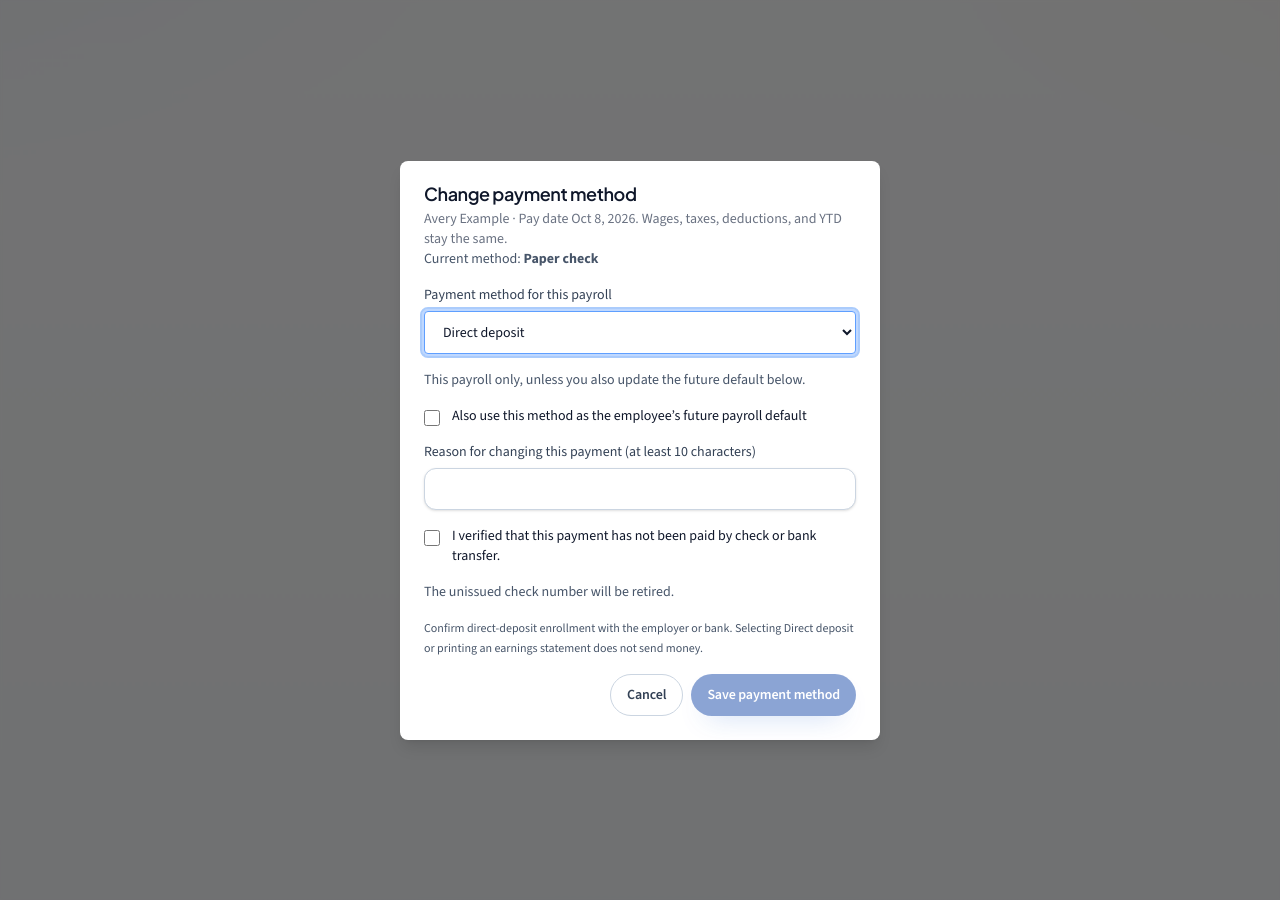
Test: scoped payment method changes › saves the run and future default in one scoped request with original check identity
The image size is (1280, 900).
In the field labelled "Reason for changing this payment (at least 10 characters)": point(640, 488) [424, 468, 856, 510], type "Employer confirmed payment remains unpaid"
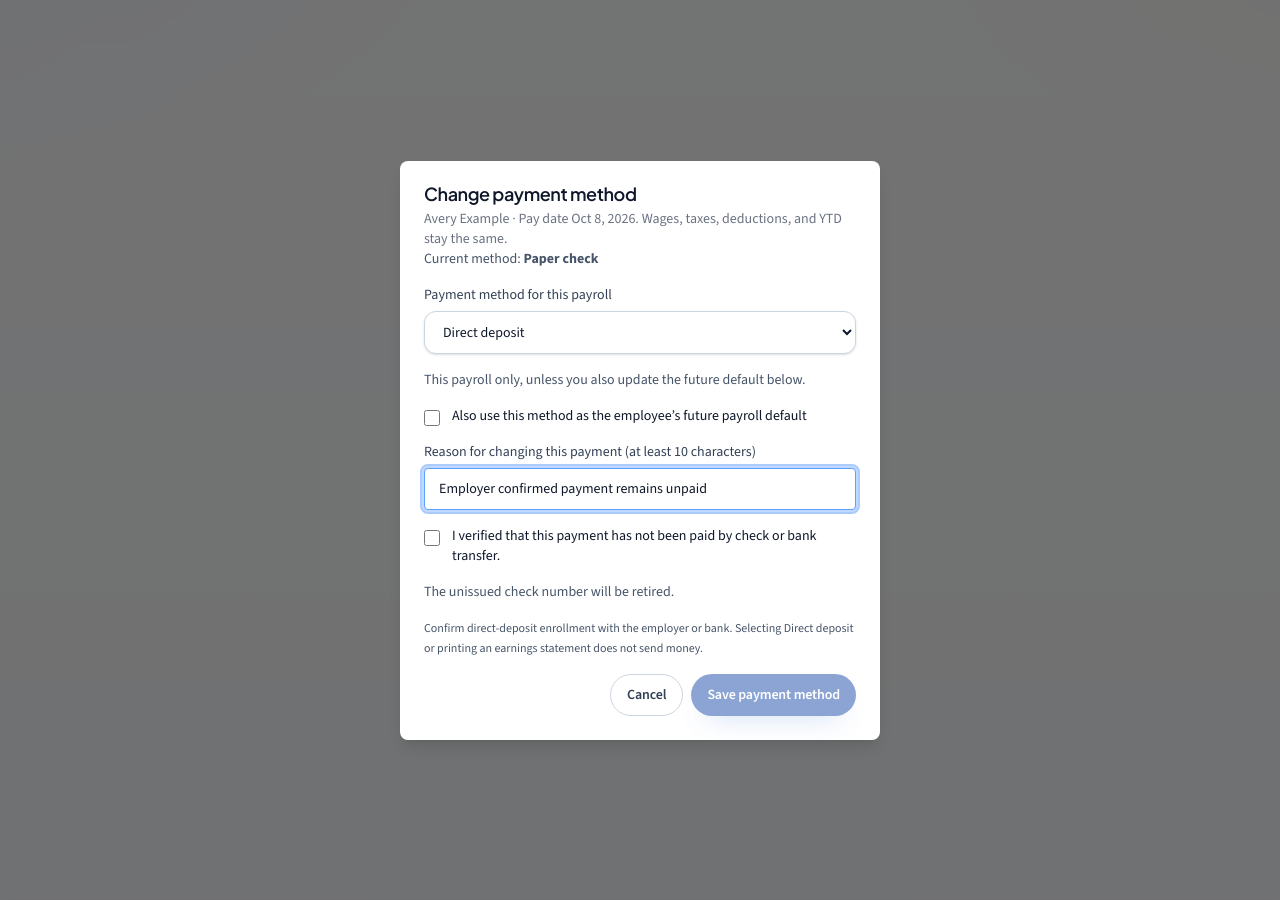
Click the checkbox labelled "I verified that this payment has not been paid": point(432, 538) [424, 530, 440, 546]
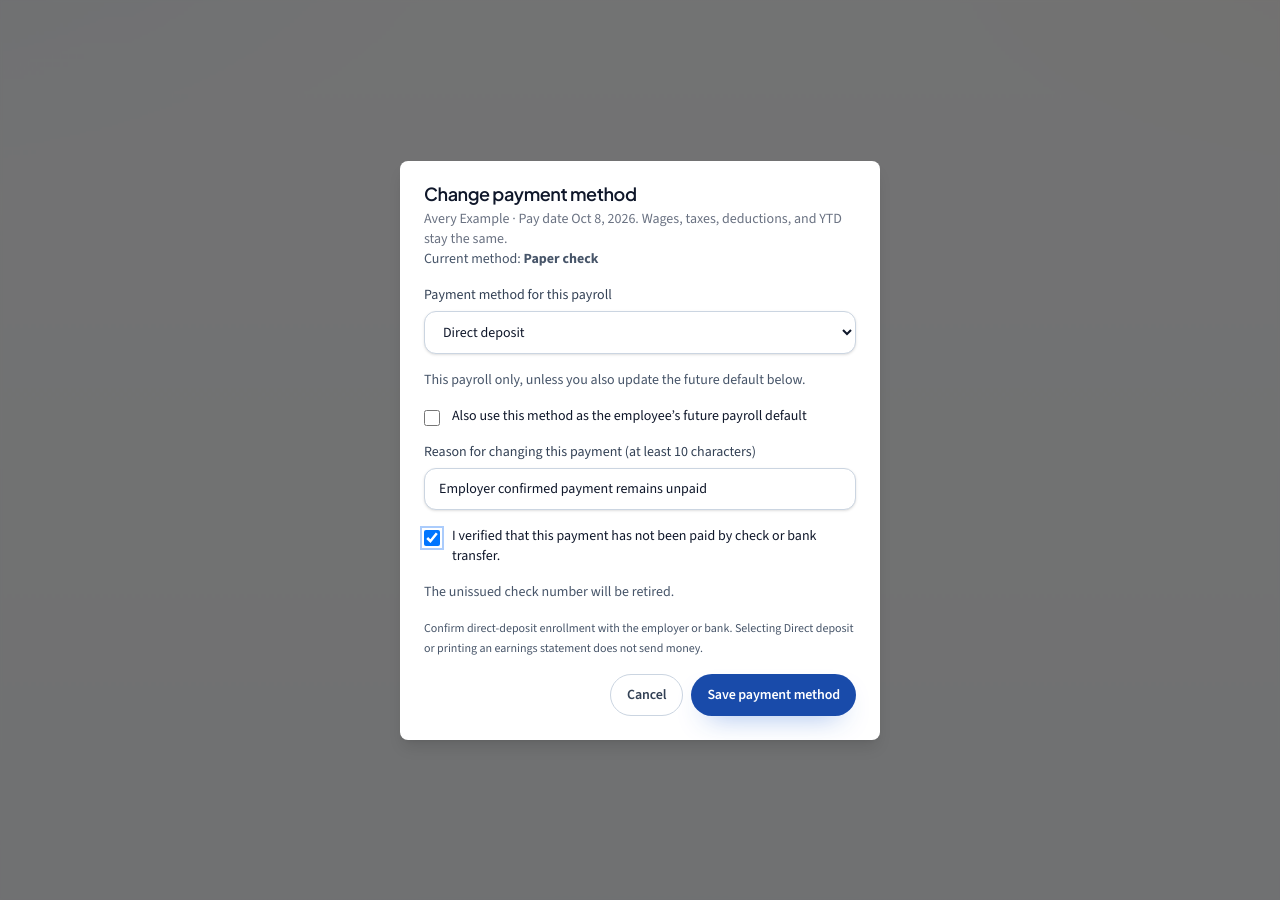
Click the checkbox labelled "Also use this method": point(432, 418) [424, 410, 440, 426]
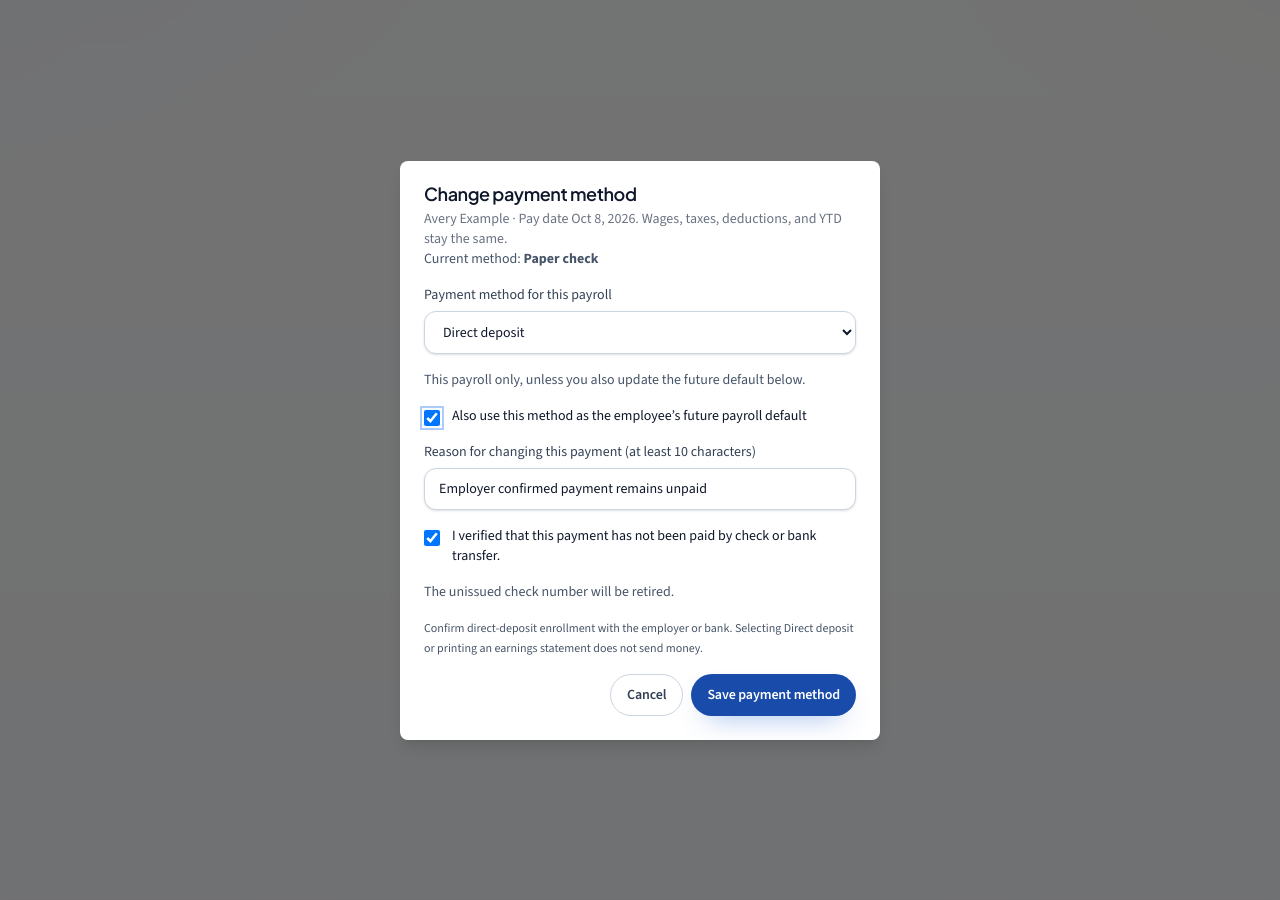
Click the button "Save payment method": point(774, 694) [691, 674, 856, 716]
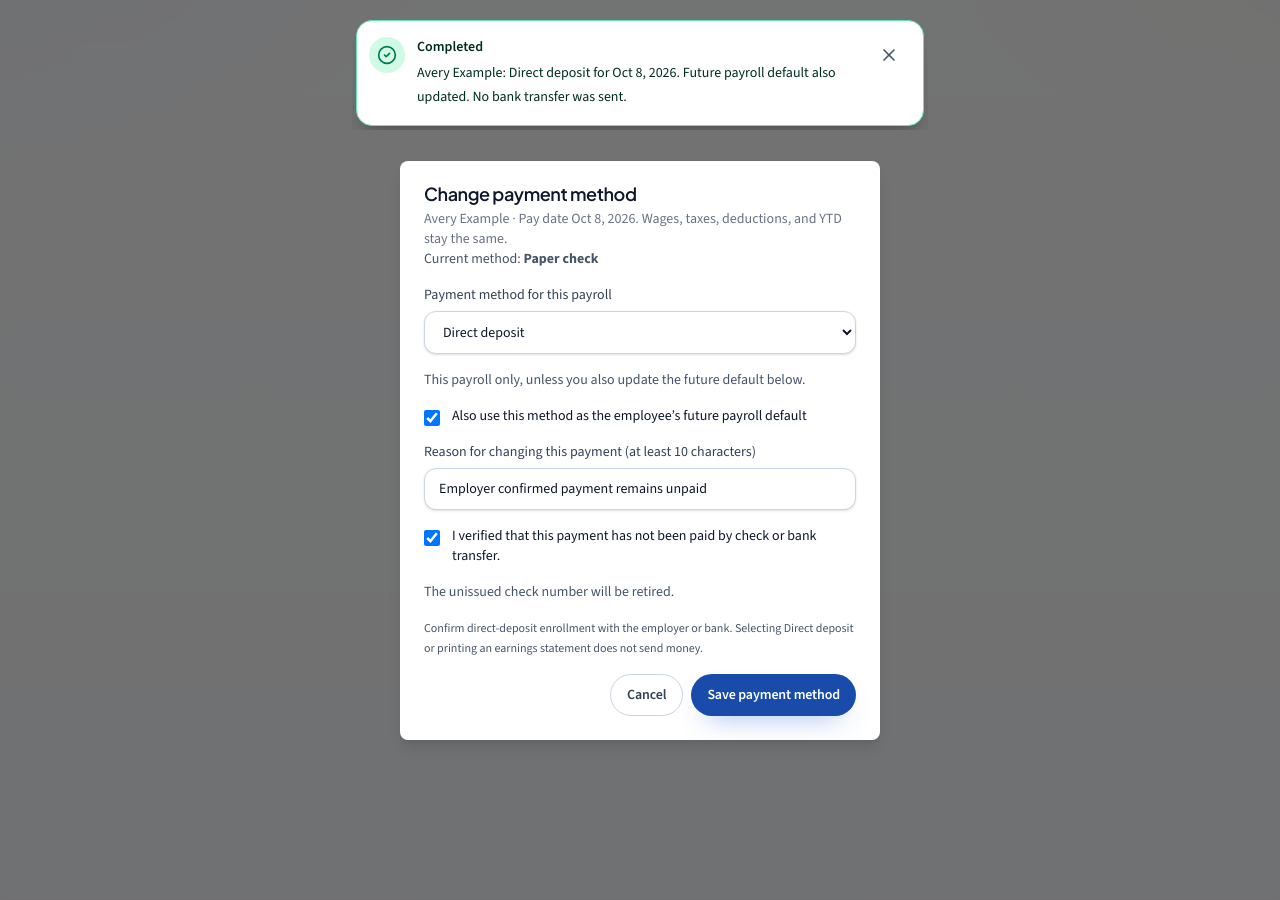
Expected: the text "Future payroll default also updated" is shown, [417, 63, 836, 106]
